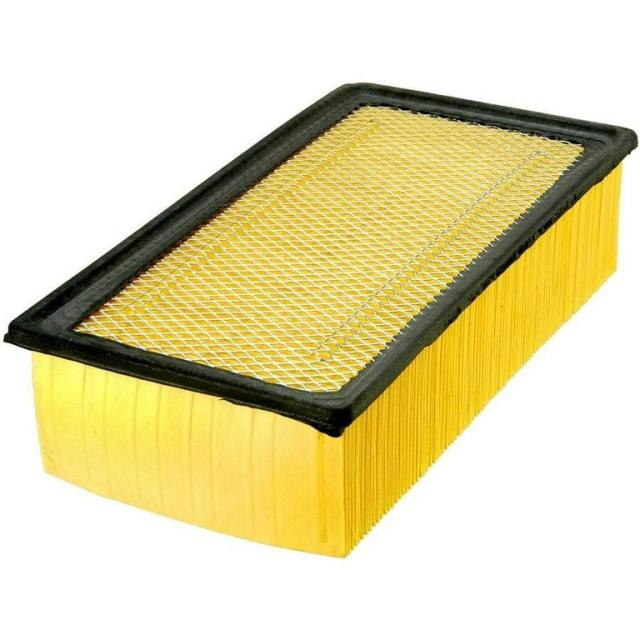air_filter: (0, 85, 638, 570)
